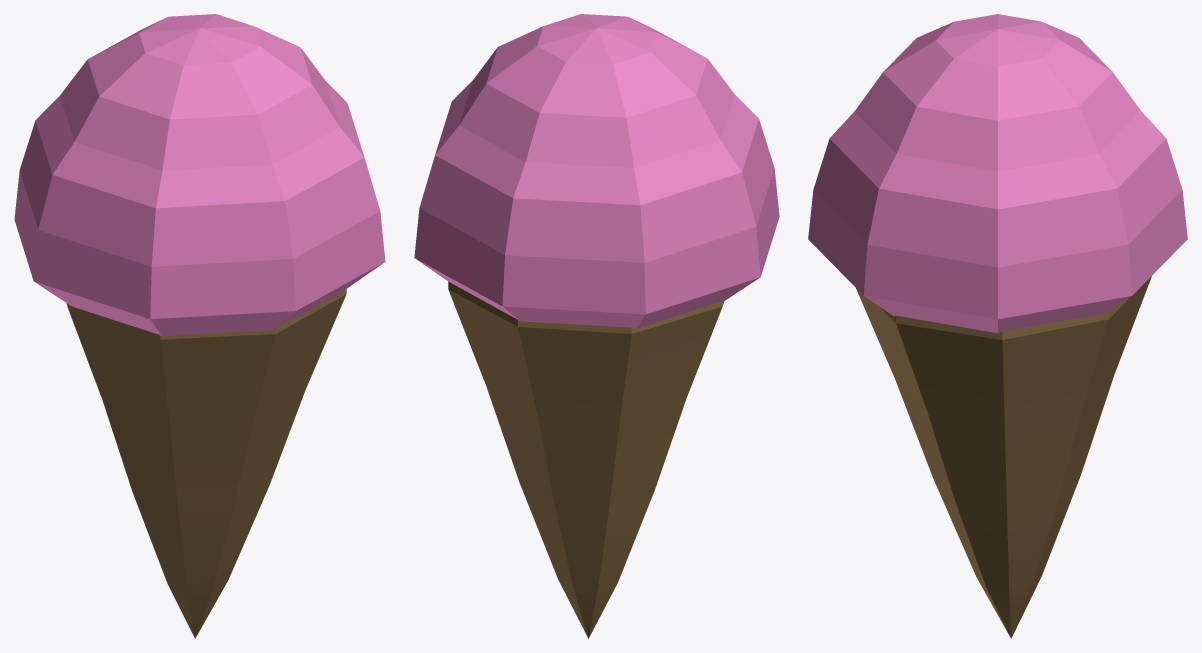
File: Ice cream.fbx
The picture shows the model from 3 angles, left to right: view 1: azimuth 30°, elevation 25°; view 2: azimuth 150°, elevation 25°; view 3: azimuth 270°, elevation 25°; orthographic projection.
Visible parts, largest first — view 1: pSphere2; view 2: pSphere2; view 3: pSphere2.
Part boxes in pixels (x1,y1,x2,y2): pSphere2: [14, 14, 385, 638]; pSphere2: [414, 14, 779, 638]; pSphere2: [808, 14, 1187, 638].
Bounding box in the file's own units: 0.0361 × 0.0639 × 0.0361.
